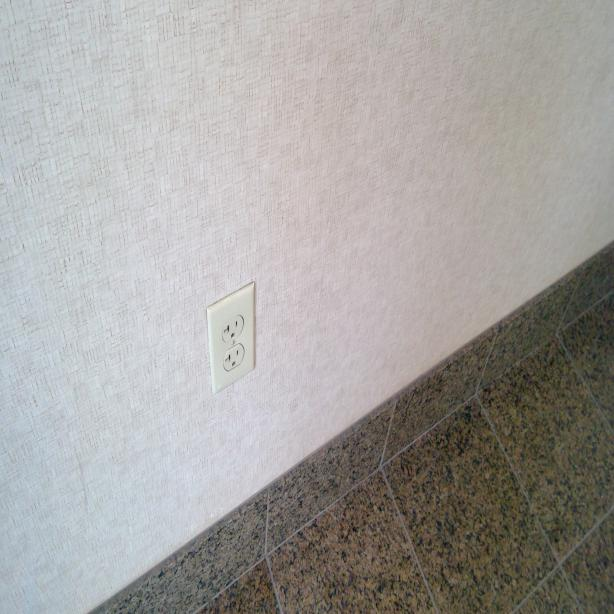typeb: (222, 314, 243, 344), (223, 348, 244, 374)
